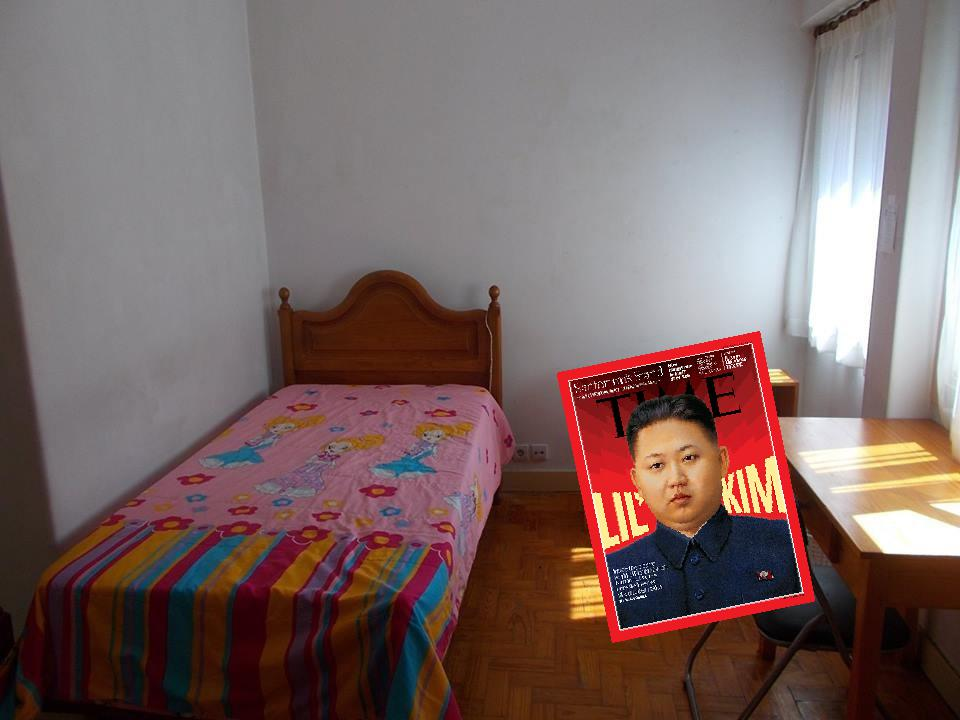times: (552, 327, 819, 642)
